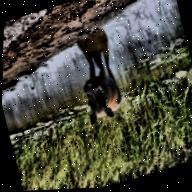boar: (72, 52, 127, 128)
